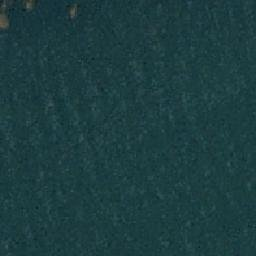debris: (68, 5, 80, 20), (1, 10, 8, 30), (25, 1, 35, 12)
